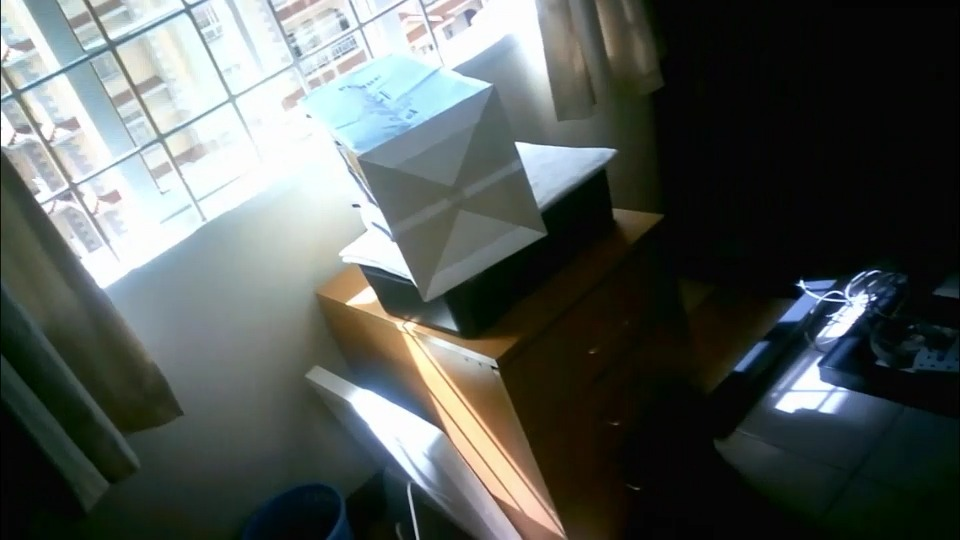wheat_flour_blue_label: (301, 54, 547, 299)
